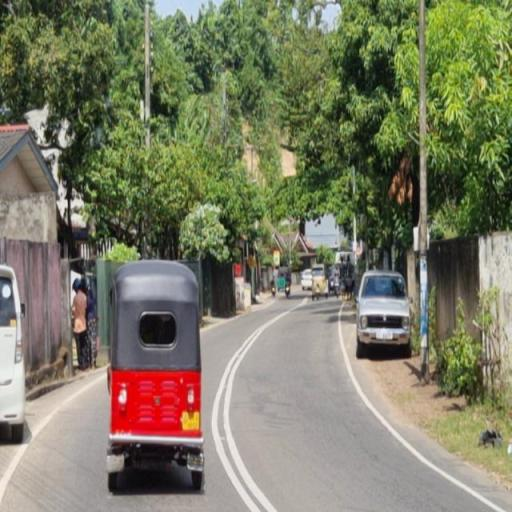double_white_line: (213, 305, 277, 512)
